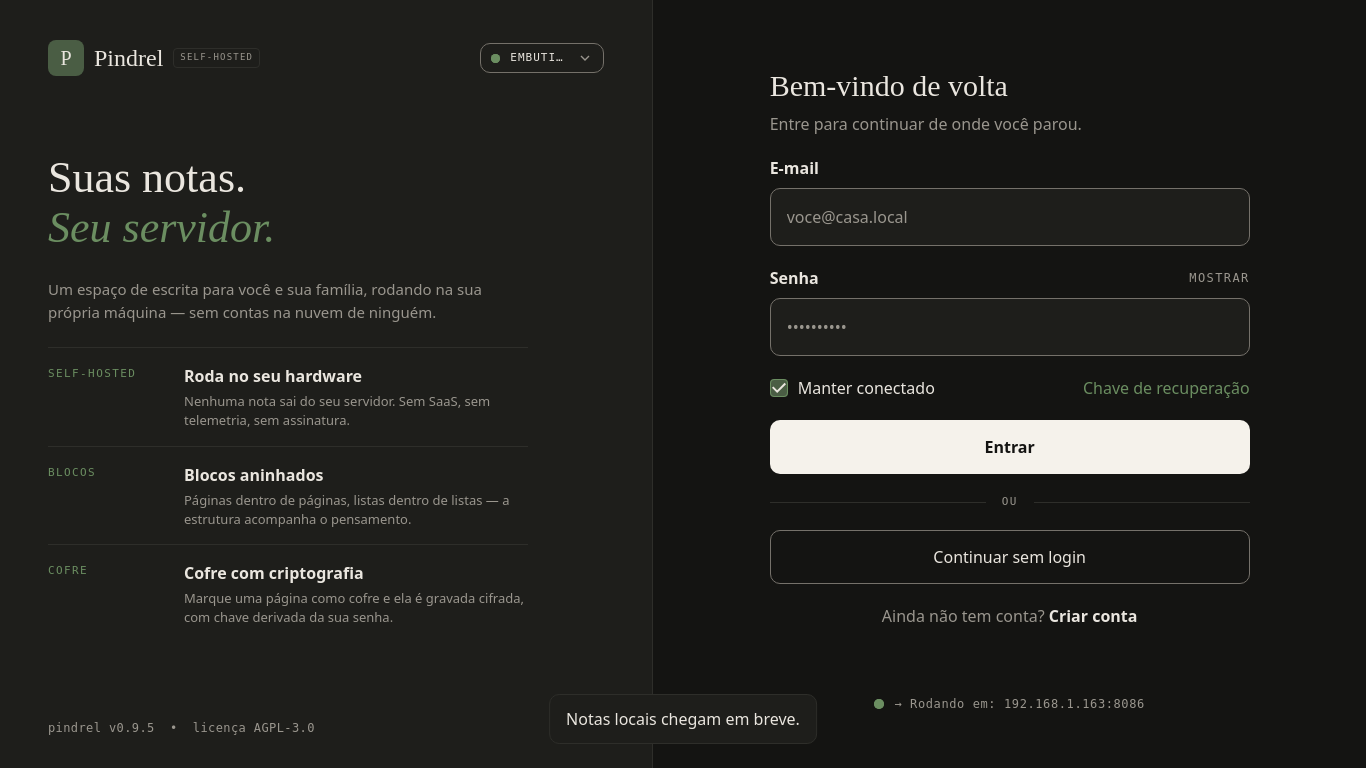
Test: Login — address of the server › the footer and the menu show the LAN address when the gateway tells it
Expected: the text "→ Rodando em: 192.168.1.163:8086" is shown, [894,696,1145,712]
Click the button with aria-label "Selecionar servidor": (542,58) [480,43,604,73]
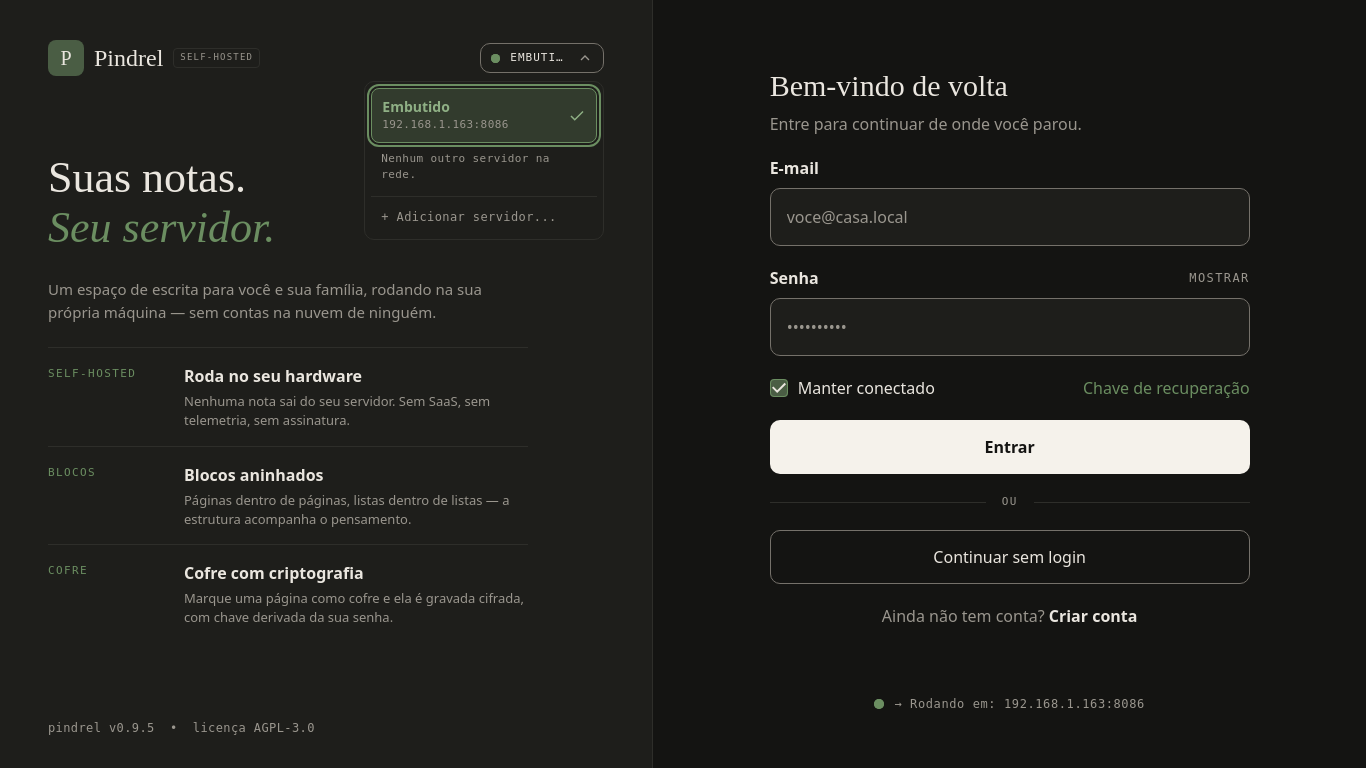
Now the text "192.168.1.163:8086" is shown, box [382,117,509,134]
